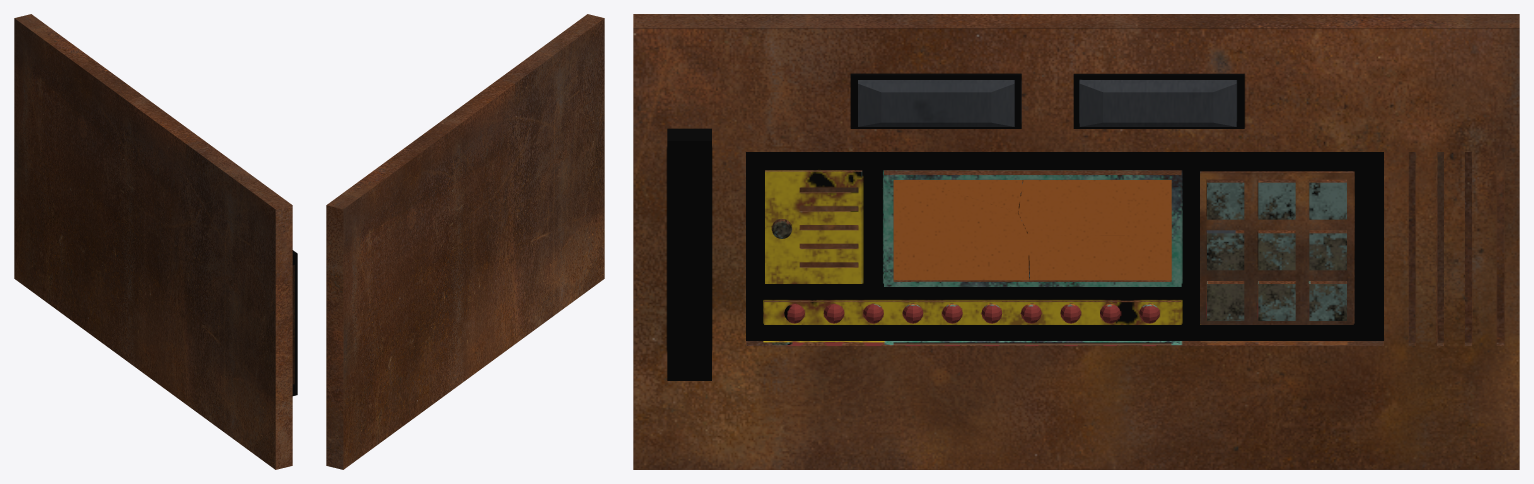
Rendered from door.fbx.
3 renders of one model, left to right at view 1: azimuth 30°, elevation 25°; view 2: azimuth 150°, elevation 25°; view 3: azimuth 270°, elevation 25°, orthographic. The views are drawn at different scales.
Parts seen in each view (by area): view 1: Plane.002_cell.005; view 2: Plane.002_cell.005; view 3: Plane.002_cell.005.
Boxes of the visible parts, x1=… form: Plane.002_cell.005: x1=14, y1=14, x2=297, y2=469; Plane.002_cell.005: x1=326, y1=14, x2=604, y2=469; Plane.002_cell.005: x1=633, y1=14, x2=1519, y2=469.
Bounding box in the file's own units: 14.28 × 111 × 201.
